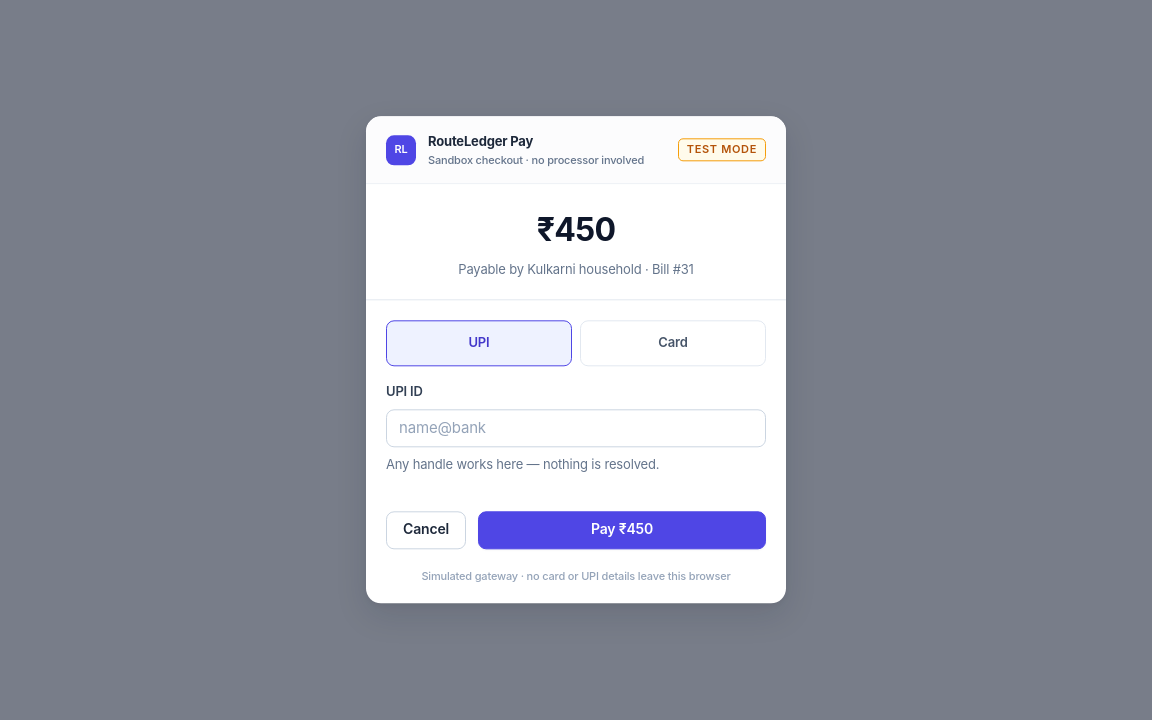
Test case: components/PaymentGatewaySimulator.jsx › says the ledger failed, not the bank, when the write is rejected
In the field labelled "UPI ID Any handle works here — nothing is resolved.": (576, 428) [386, 409, 766, 447], type "kulkarni@okaxis"
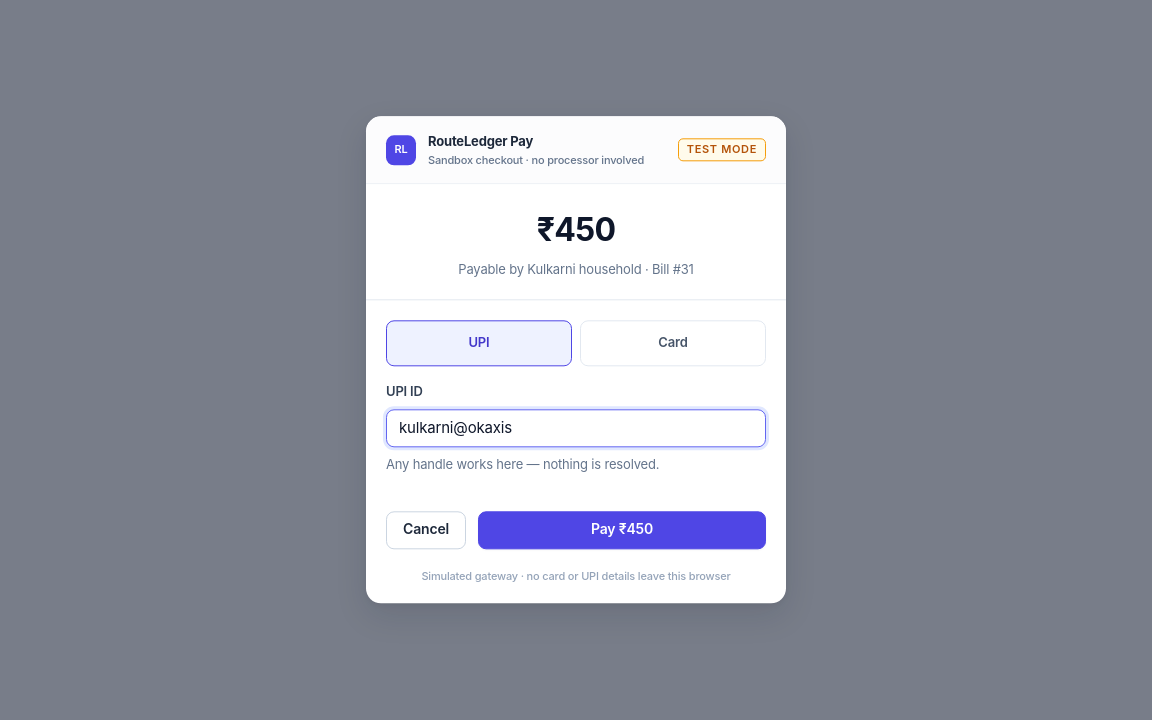
Click the button "Pay ₹450": (622, 530) [478, 511, 766, 549]
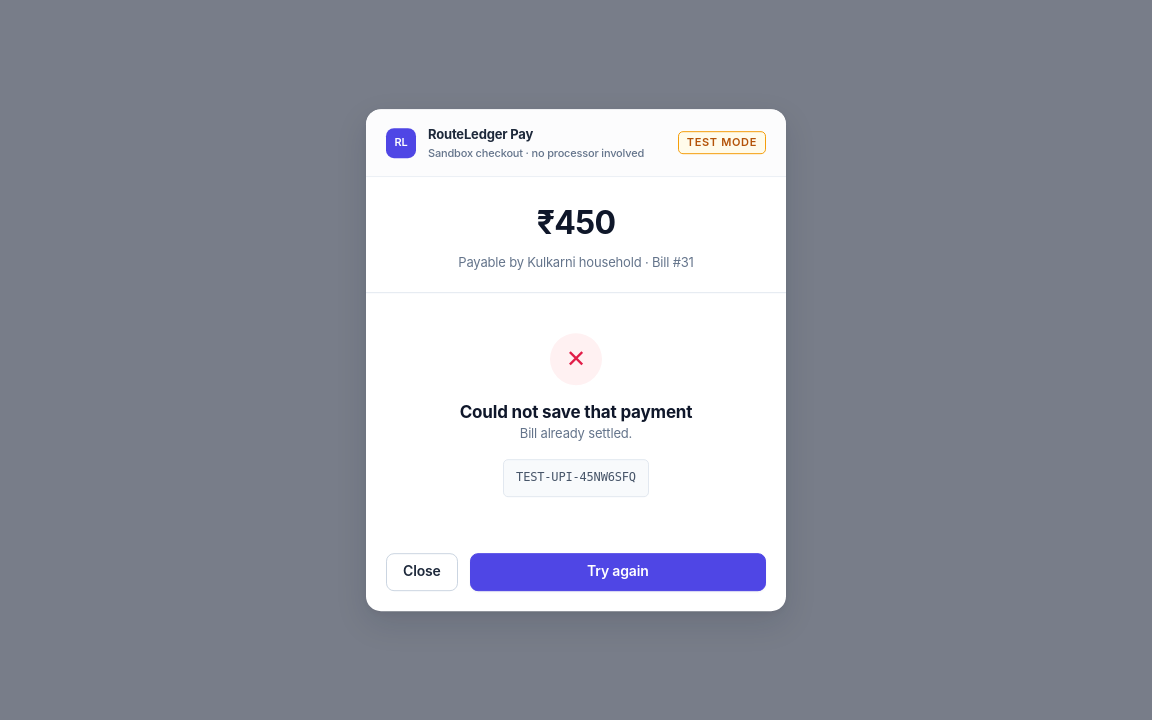
Result: the text "Could not save that payment" is shown at [460, 401, 692, 424]
Result: the text "Bill already settled." is shown at [520, 425, 632, 441]
